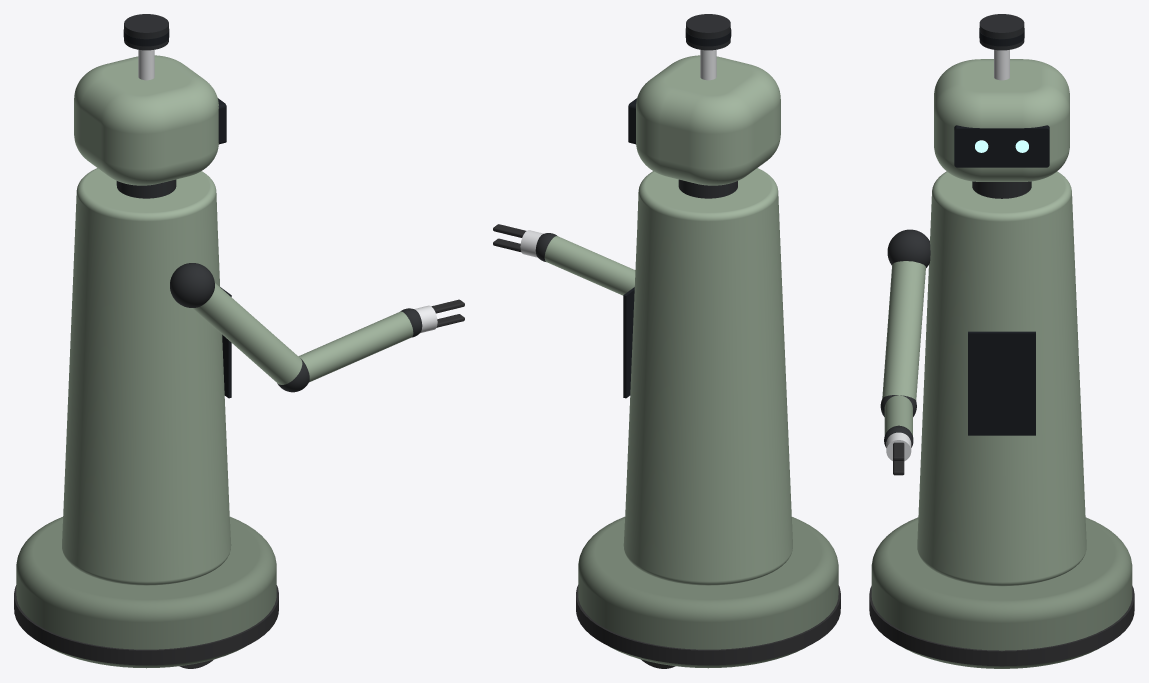
3 renders of one model, left to right at view 1: azimuth 30°, elevation 25°; view 2: azimuth 150°, elevation 25°; view 3: azimuth 270°, elevation 25°, orthographic.
Parts seen in each view (by area): view 1: body.1, accent.1, body.2, rubber.1, body.3, body.4, coat.3, coat.2, coat.1; view 2: body.1, accent.1, body.2, rubber.1, body.4, coat.2, glass.1, coat.1; view 3: body.1, accent.1, body.2, glass.1, body.3, rubber.1, glass.2, coat.3, coat.2, body.4, coat.1, metal.3 (+1 smaller).
Part boxes in pixels (box(x1,y1,x2,y2)): body.1: box(62, 168, 231, 585); accent.1: box(16, 516, 276, 668); body.2: box(74, 55, 218, 185); rubber.1: box(14, 585, 278, 665); body.3: box(192, 283, 302, 384); body.4: box(298, 311, 413, 382); coat.3: box(170, 263, 214, 307); coat.2: box(124, 14, 168, 50); coat.1: box(116, 179, 176, 198); body.1: box(623, 168, 792, 585); accent.1: box(578, 516, 838, 668); body.2: box(636, 55, 780, 185); rubber.1: box(576, 585, 840, 665); body.4: box(544, 236, 635, 295); coat.2: box(686, 14, 730, 50); glass.1: box(623, 287, 634, 398); coat.1: box(678, 179, 737, 198); body.1: box(917, 171, 1086, 586); accent.1: box(871, 517, 1132, 668); body.2: box(934, 59, 1069, 181); glass.1: box(968, 331, 1035, 435); body.3: box(882, 261, 925, 400); rubber.1: box(869, 586, 1134, 666); glass.2: box(954, 125, 1049, 167); coat.3: box(887, 229, 930, 267); coat.2: box(979, 14, 1024, 50); body.4: box(884, 395, 912, 435); coat.1: box(972, 181, 1031, 198); metal.3: box(994, 50, 1009, 80).
Size of the model in its own units: 0.7733 by 1.18 by 0.4679.
